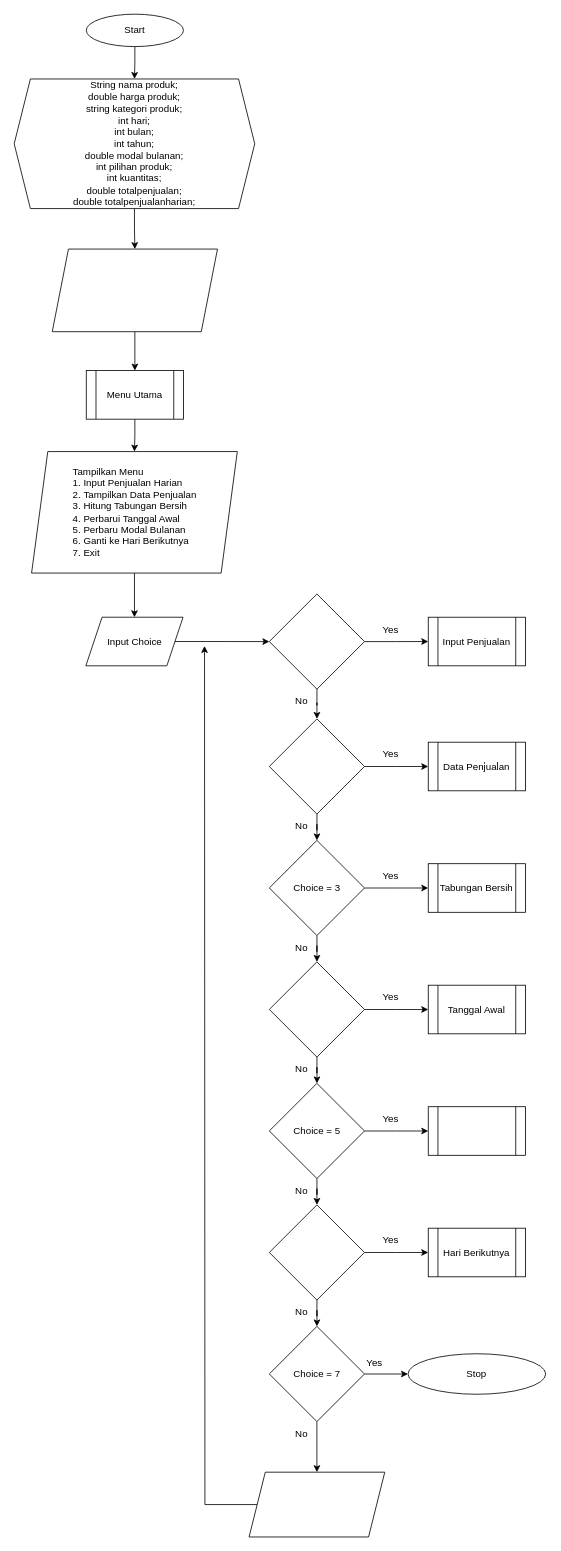
Some shapes in this 561 by 1551 pixel diagram are drawn without their labels. Each missing label, with the centre of its shape:
Cetak Pilihan Tidak Valid! Silahkan Coba Lagi.: [316,1504]
Choice = 1: [316,641]
Choice = 2: [316,766]
Choice = 4: [316,1009]
Choice = 6: [316,1252]
Input Modal Bulanan, Tanggal awal (DD/MM/YYYY): [134,290]
Modal Bulanan: [476,1130]
